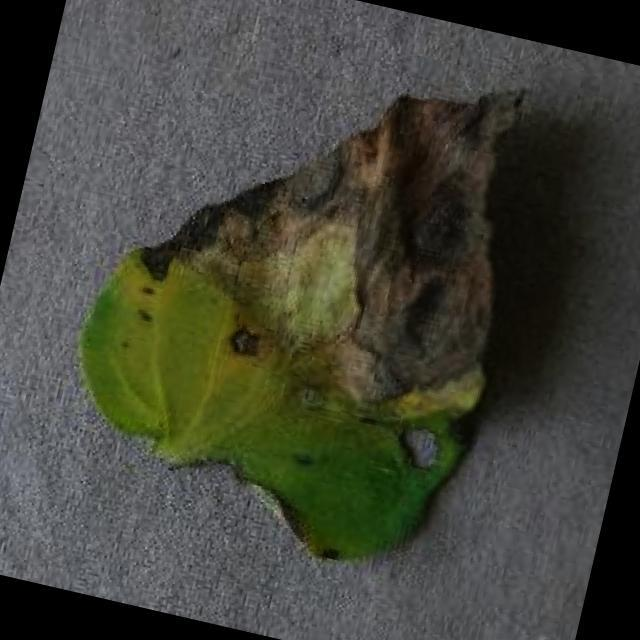Tomato Early blight leaf: (46, 6, 562, 590)
